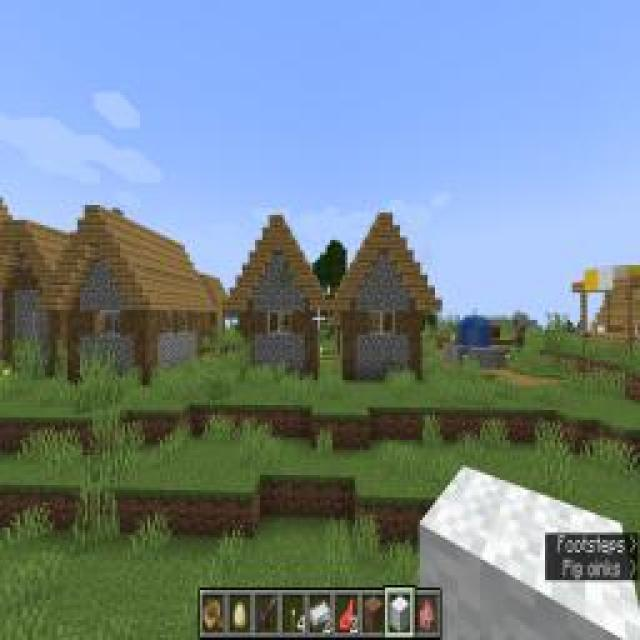Villager: (37, 200, 205, 388), (326, 205, 446, 383), (223, 208, 325, 380)
